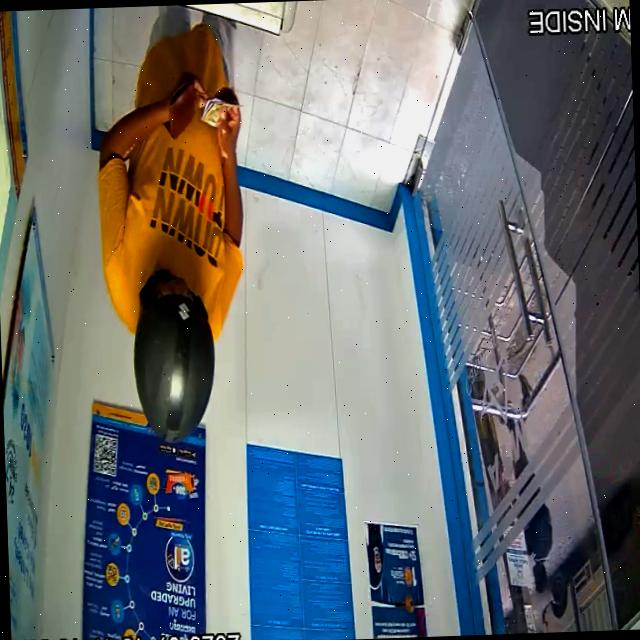helmet: (133, 276, 215, 445)
